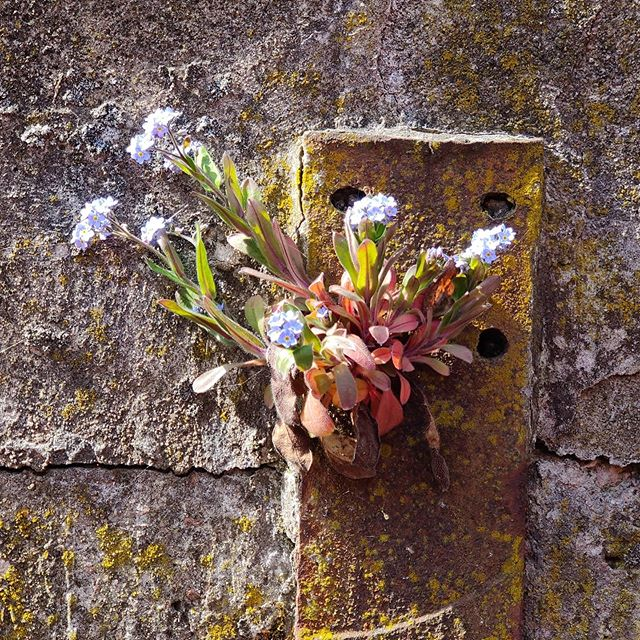flowers: (21, 89, 493, 488)
